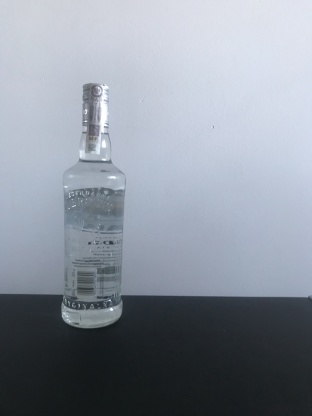nakretka: (79, 79, 111, 131), (79, 79, 112, 126)
